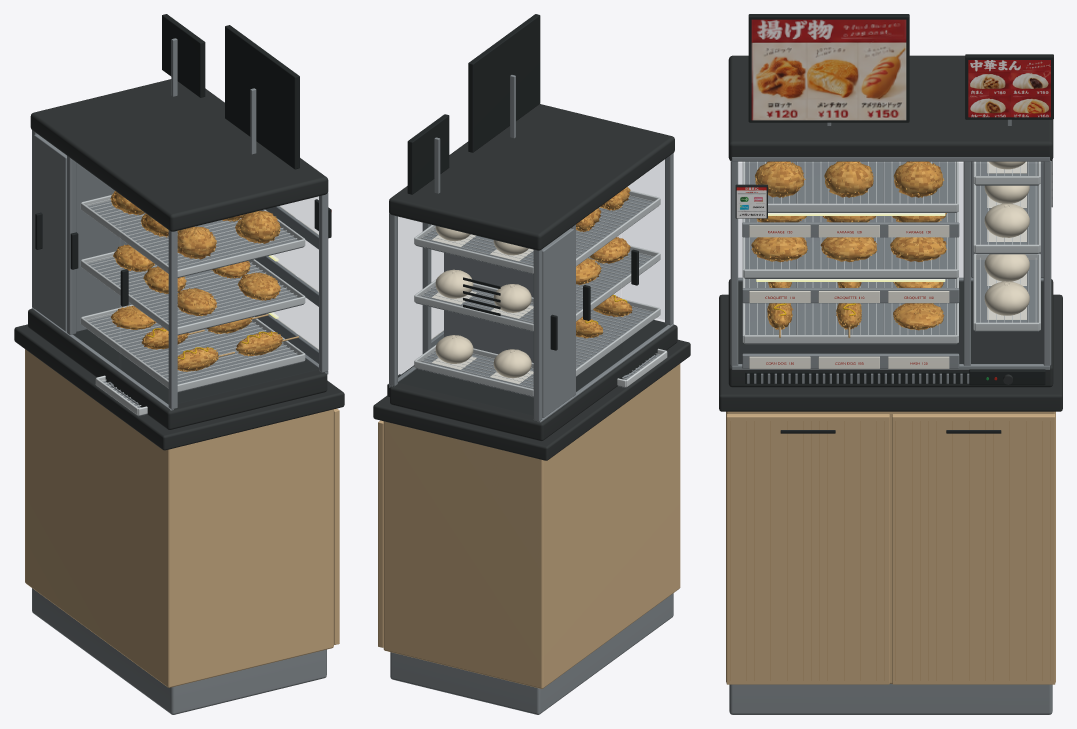
Rendered from fried-station-v12.glb.
The picture shows the model from 3 angles, left to right: view 1: azimuth 30°, elevation 25°; view 2: azimuth 150°, elevation 25°; view 3: azimuth 270°, elevation 25°; orthographic projection. The views are drawn at different scales.
Visible parts, largest first — view 1: FRIED_V12_cabinet, FRIED_V12_canopy, FRIED_V12_warmer_base, FRIED_V12_plinth, FRIED_V12_menu_frame, FRIED_V12_worktop, FRIED_V12_bun_rear_service_door, FRIED_V12_dry_tray_0_pan, FRIED_V12_thermal_divider, FRIED_V12_dry_tray_1_pan, FRIED_V12_dry_tray_2_pan, FRIED_V12_menu_frame.001 (+24 smaller); view 2: FRIED_V12_cabinet, FRIED_V12_canopy, FRIED_V12_warmer_base, FRIED_V12_plinth, FRIED_V12_menu_frame, FRIED_V12_worktop, FRIED_V12_bun_rear_service_door, FRIED_V12_thermal_divider, FRIED_V12_menu_frame.001, FRIED_V12_case_post.005, FRIED_V12_case_post.004, FRIED_V12_dry_tray_0_pan (+21 smaller); view 3: FRIED_V12_door, FRIED_V12_door.001, FRIED_V12_canopy, FRIED_V12_menu_UV, FRIED_V12_worktop, FRIED_V12_plinth, FRIED_V12_warmer_base, FRIED_V12_dry_tray_0_pan, FRIED_V12_menu_UV.001, FRIED_V12_dry_tray_2_pan, FRIED_V12_dry_tray_1_pan, FRIED_V12_cabinet (+44 smaller).
Boxes of the visible parts, x1,y1,x2,y2 form: FRIED_V12_cabinet: [25, 349, 333, 687]; FRIED_V12_canopy: [30, 79, 328, 231]; FRIED_V12_warmer_base: [28, 309, 327, 429]; FRIED_V12_plinth: [32, 588, 326, 714]; FRIED_V12_menu_frame: [225, 25, 299, 169]; FRIED_V12_worktop: [14, 324, 344, 450]; FRIED_V12_bun_rear_service_door: [34, 134, 66, 331]; FRIED_V12_dry_tray_0_pan: [86, 315, 303, 392]; FRIED_V12_thermal_divider: [76, 162, 131, 331]; FRIED_V12_dry_tray_1_pan: [85, 257, 303, 335]; FRIED_V12_dry_tray_2_pan: [86, 201, 303, 277]; FRIED_V12_menu_frame.001: [162, 14, 205, 97]; FRIED_V12_cabinet: [383, 364, 680, 688]; FRIED_V12_canopy: [389, 104, 674, 250]; FRIED_V12_warmer_base: [390, 320, 677, 441]; FRIED_V12_plinth: [390, 593, 673, 714]; FRIED_V12_menu_frame: [468, 14, 540, 152]; FRIED_V12_worktop: [373, 339, 690, 460]; FRIED_V12_bun_rear_service_door: [542, 228, 573, 417]; FRIED_V12_thermal_divider: [444, 252, 533, 362]; FRIED_V12_menu_frame.001: [407, 114, 449, 194]; FRIED_V12_case_post.005: [533, 249, 542, 421]; FRIED_V12_case_post.004: [389, 213, 397, 386]; FRIED_V12_dry_tray_0_pan: [576, 307, 658, 375]; FRIED_V12_door: [726, 414, 889, 684]; FRIED_V12_door.001: [892, 414, 1055, 684]; FRIED_V12_canopy: [728, 55, 1053, 160]; FRIED_V12_menu_UV: [751, 19, 906, 120]; FRIED_V12_worktop: [719, 294, 1062, 411]; FRIED_V12_plinth: [729, 684, 1052, 714]; FRIED_V12_warmer_base: [728, 279, 1053, 387]; FRIED_V12_dry_tray_0_pan: [744, 279, 957, 344]; FRIED_V12_menu_UV.001: [968, 60, 1050, 117]; FRIED_V12_dry_tray_2_pan: [745, 161, 957, 212]; FRIED_V12_dry_tray_1_pan: [744, 213, 957, 278]; FRIED_V12_cabinet: [726, 411, 1055, 683].
Size of the model in its own units: 0.7025 by 2.21 by 1.
Materials: 20 (1 with a texture image).
